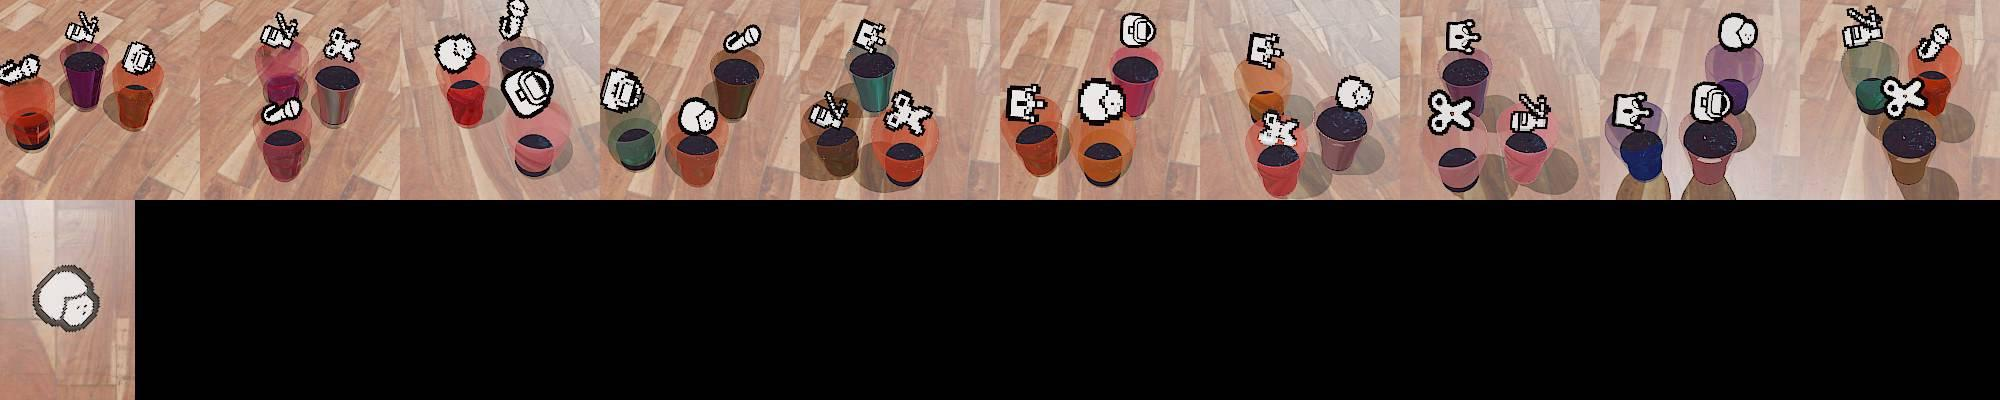icon: (31, 262, 101, 334), (501, 66, 555, 118), (1075, 76, 1128, 124), (1427, 88, 1477, 135), (883, 89, 932, 135), (599, 66, 645, 113), (1841, 5, 1884, 51), (1689, 80, 1735, 124), (1881, 75, 1927, 118), (1005, 82, 1048, 124), (1510, 90, 1552, 132), (1256, 108, 1300, 149), (434, 33, 477, 74), (1716, 13, 1759, 52), (260, 11, 301, 51), (809, 89, 849, 129), (677, 94, 718, 134), (1612, 90, 1652, 130), (321, 25, 361, 64), (1246, 31, 1284, 69), (1916, 22, 1954, 60), (1334, 74, 1375, 110), (1445, 18, 1482, 56), (852, 17, 889, 54), (1120, 11, 1156, 50), (0, 54, 41, 87), (260, 94, 306, 124), (120, 39, 157, 75), (497, 0, 529, 39), (65, 11, 101, 45), (723, 23, 761, 54)
